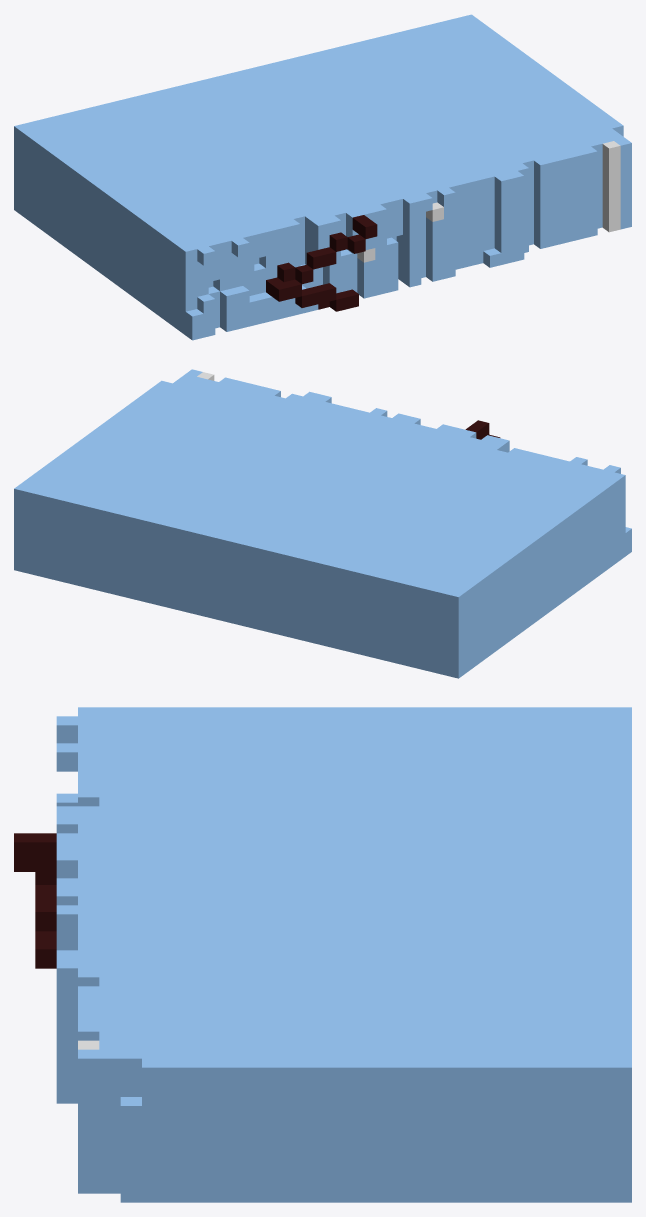
File: snow2.obj
The picture shows the model from 3 angles, top to bottom: view 1: azimuth 30°, elevation 25°; view 2: azimuth 150°, elevation 25°; view 3: azimuth 270°, elevation 25°; orthographic projection. The views are drawn at different scales.
Size of the model in its own units: 4 by 0.7 by 2.9.
Materials: 1 (1 with a texture image).
